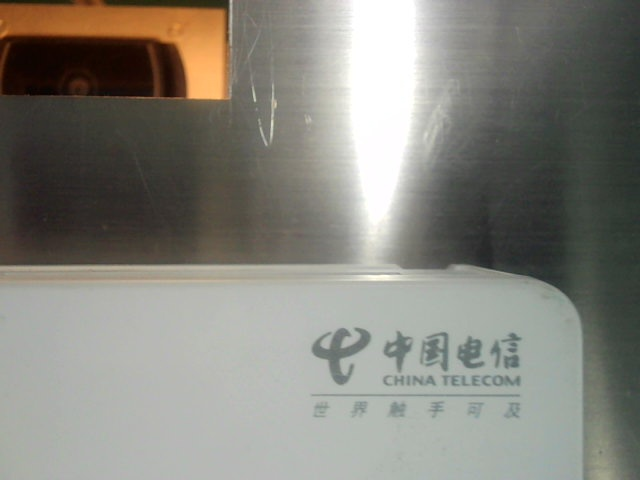AB_ChinaTelecom: (299, 320, 537, 437)
